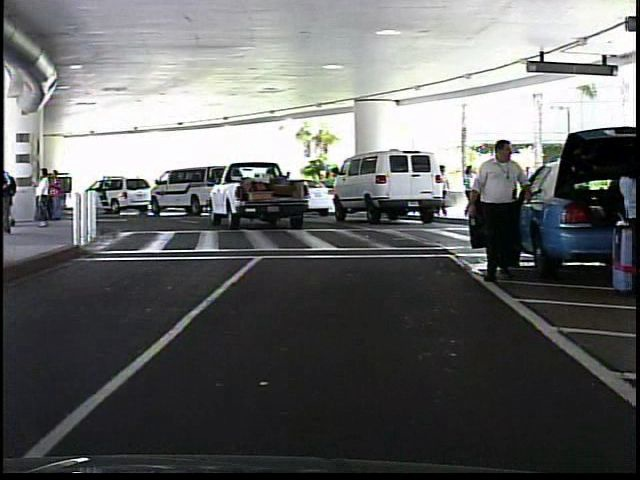person: (462, 132, 526, 285), (611, 147, 640, 280), (461, 160, 481, 220), (438, 160, 455, 221)
